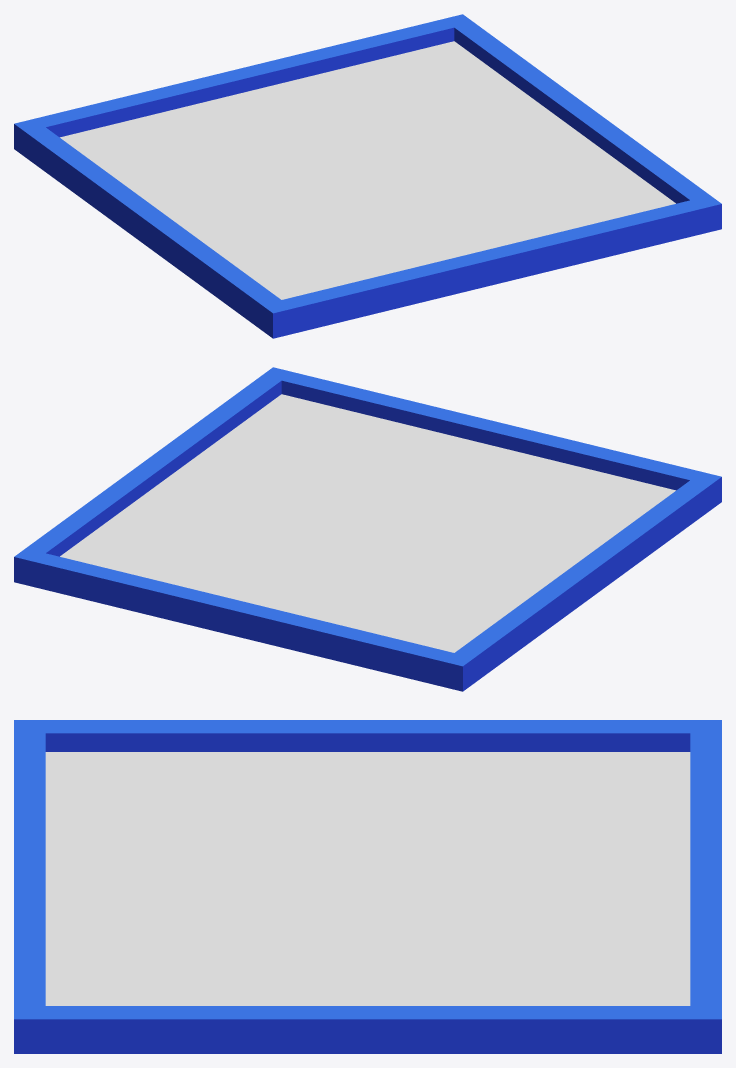
File: platform.fbx
3 views of the same model, one above another, from view 1: azimuth 30°, elevation 25°; view 2: azimuth 150°, elevation 25°; view 3: azimuth 270°, elevation 25° (orthographic). The views are drawn at different scales.
Visible parts, largest first — view 1: pCube1; view 2: pCube1; view 3: pCube1.
Part boxes in pixels (x1,y1,x2,y2): pCube1: (14, 14, 721, 338); pCube1: (14, 367, 721, 691); pCube1: (14, 720, 721, 1053).
Size of the model in its own units: 70.91 by 3.83 by 70.91.
1 material, 1 textured.
